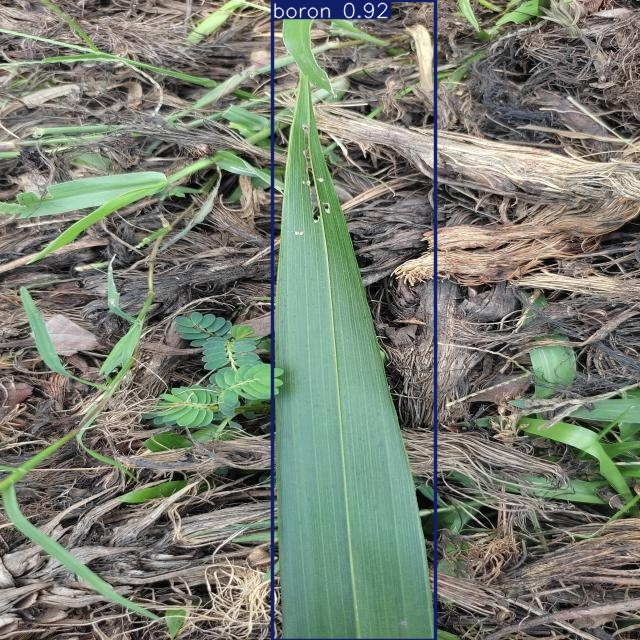nitrogen: (272, 1, 436, 640)
